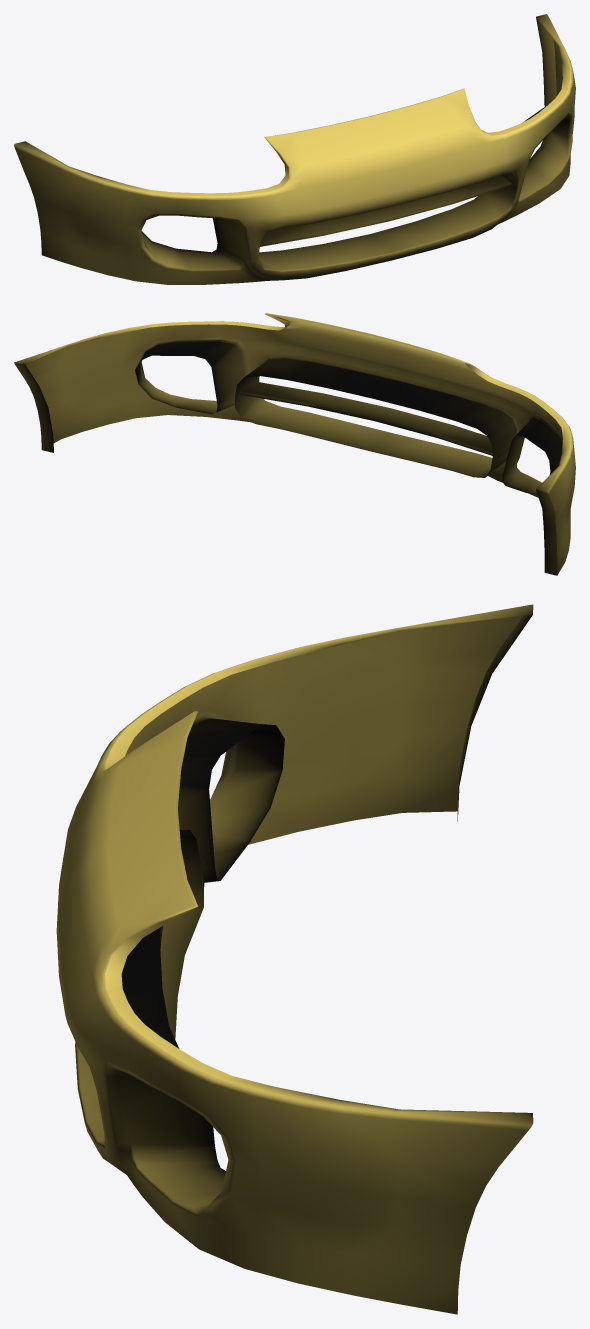
The model's file is Supra_FrontBar_01_Duco.fbx.
3 views of the same model, one above another, from view 1: azimuth 30°, elevation 25°; view 2: azimuth 150°, elevation 25°; view 3: azimuth 270°, elevation 25° (orthographic). The views are drawn at different scales.
Parts seen in each view (by area): view 1: Supra_FrontBar_01_Duco; view 2: Supra_FrontBar_01_Duco; view 3: Supra_FrontBar_01_Duco.
Part boxes in pixels (<box>): Supra_FrontBar_01_Duco: <box>14,14,575,284</box>; Supra_FrontBar_01_Duco: <box>14,313,575,575</box>; Supra_FrontBar_01_Duco: <box>56,604,533,1314</box>.
Bounding box in the file's own units: 176 × 40.23 × 68.12.
